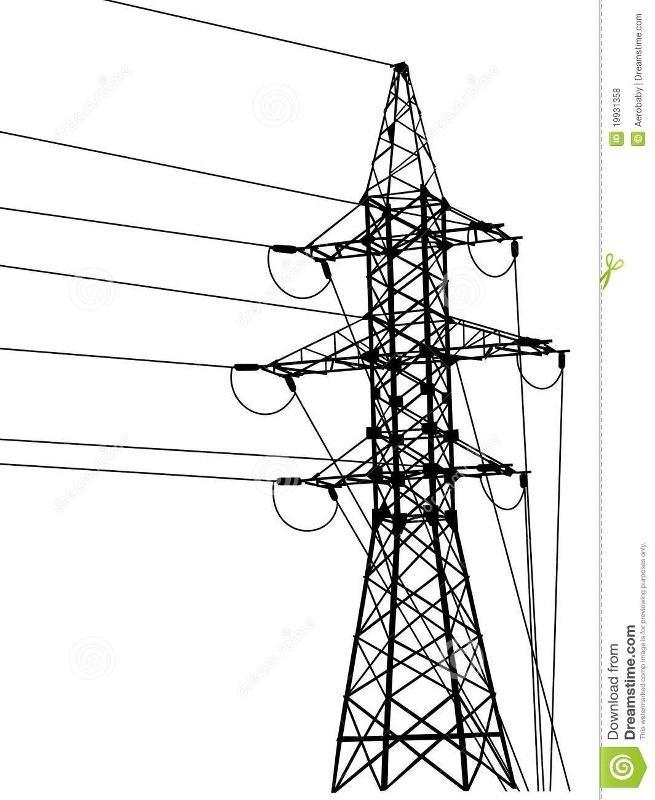power_tower: (232, 62, 564, 789)
